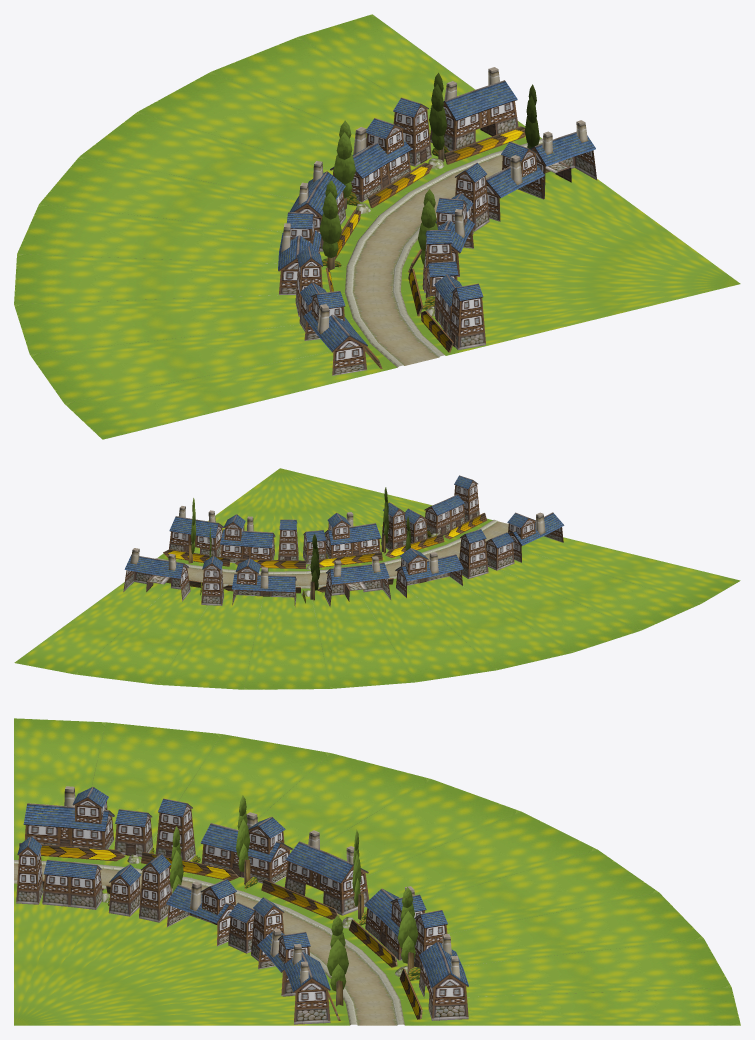
The model's file is VillageRoad02_RightCurve.FBX.
3 views of the same model, one above another, from view 1: azimuth 30°, elevation 25°; view 2: azimuth 150°, elevation 25°; view 3: azimuth 270°, elevation 25° (orthographic). The views are drawn at different scales.
Visible parts, largest first — view 1: Road, House (×15), Tree (×4), Fence (×2); view 2: Road, House (×17), Fence (×5), Tree; view 3: Road, House (×17), Tree (×5), Fence (×4).
Part boxes in pixels (box(x1,y1,x2,y2)): Road: box(14, 14, 740, 439); House (×15): box(278, 67, 597, 375); Tree (×4): box(319, 72, 447, 270); Fence (×2): box(368, 126, 525, 208); Road: box(14, 468, 740, 689); House (×17): box(123, 475, 564, 607); Fence (×5): box(163, 513, 487, 568); Tree: box(310, 534, 319, 600); Road: box(14, 718, 740, 1025); House (×17): box(16, 786, 468, 1024); Tree (×5): box(169, 795, 418, 1006); Fence (×4): box(19, 843, 397, 967).
Bounding box in the file's own units: 10000 × 1390 × 10000.
